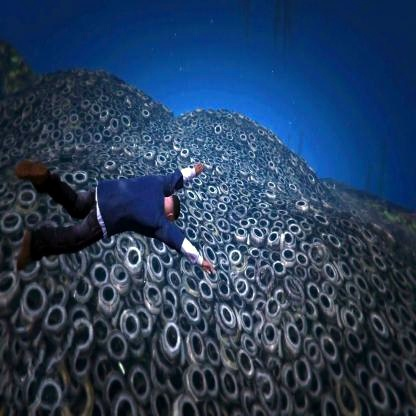tire: (16, 284, 54, 322), (248, 262, 283, 303), (85, 256, 117, 296), (96, 274, 123, 321), (163, 312, 191, 354), (125, 241, 151, 282), (120, 306, 146, 347), (212, 301, 237, 339), (243, 221, 268, 251), (71, 169, 93, 191), (208, 180, 219, 204), (118, 115, 133, 130)
